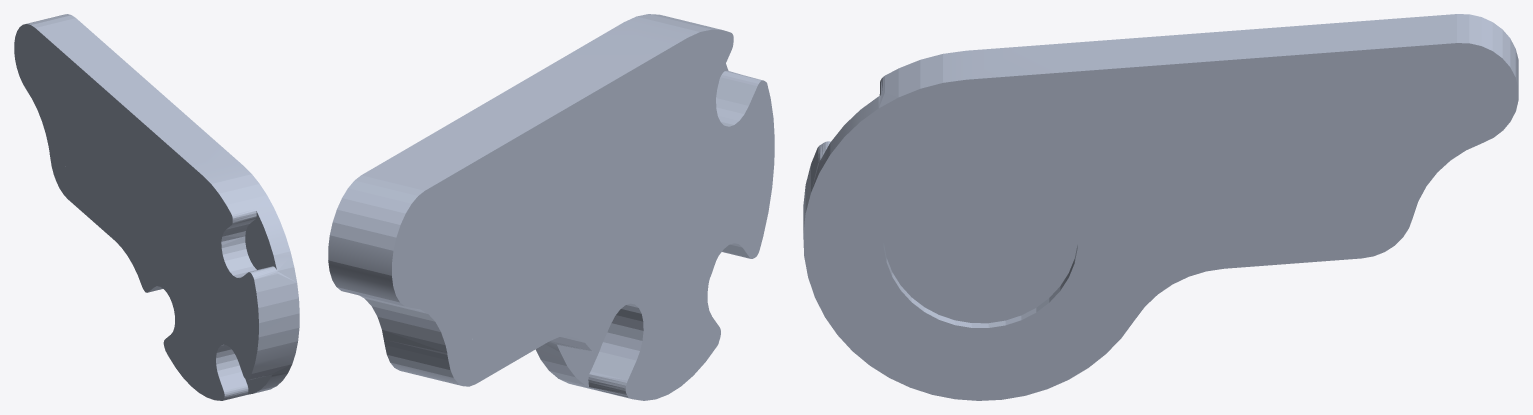
Rendered from finger_inner_02.obj.
The picture shows the model from 3 angles, left to right: view 1: azimuth 30°, elevation 25°; view 2: azimuth 150°, elevation 25°; view 3: azimuth 270°, elevation 25°; orthographic projection. The views are drawn at different scales.
Visible parts, largest first — view 1: finger_inner_02; view 2: finger_inner_02; view 3: finger_inner_02.
Boxes of the visible parts, x1,y1,x2,y2 form: finger_inner_02: (14, 14, 299, 400); finger_inner_02: (328, 14, 774, 400); finger_inner_02: (803, 14, 1518, 400).
Size of the model in its own units: 0.006 by 0.0345 by 0.0625.
